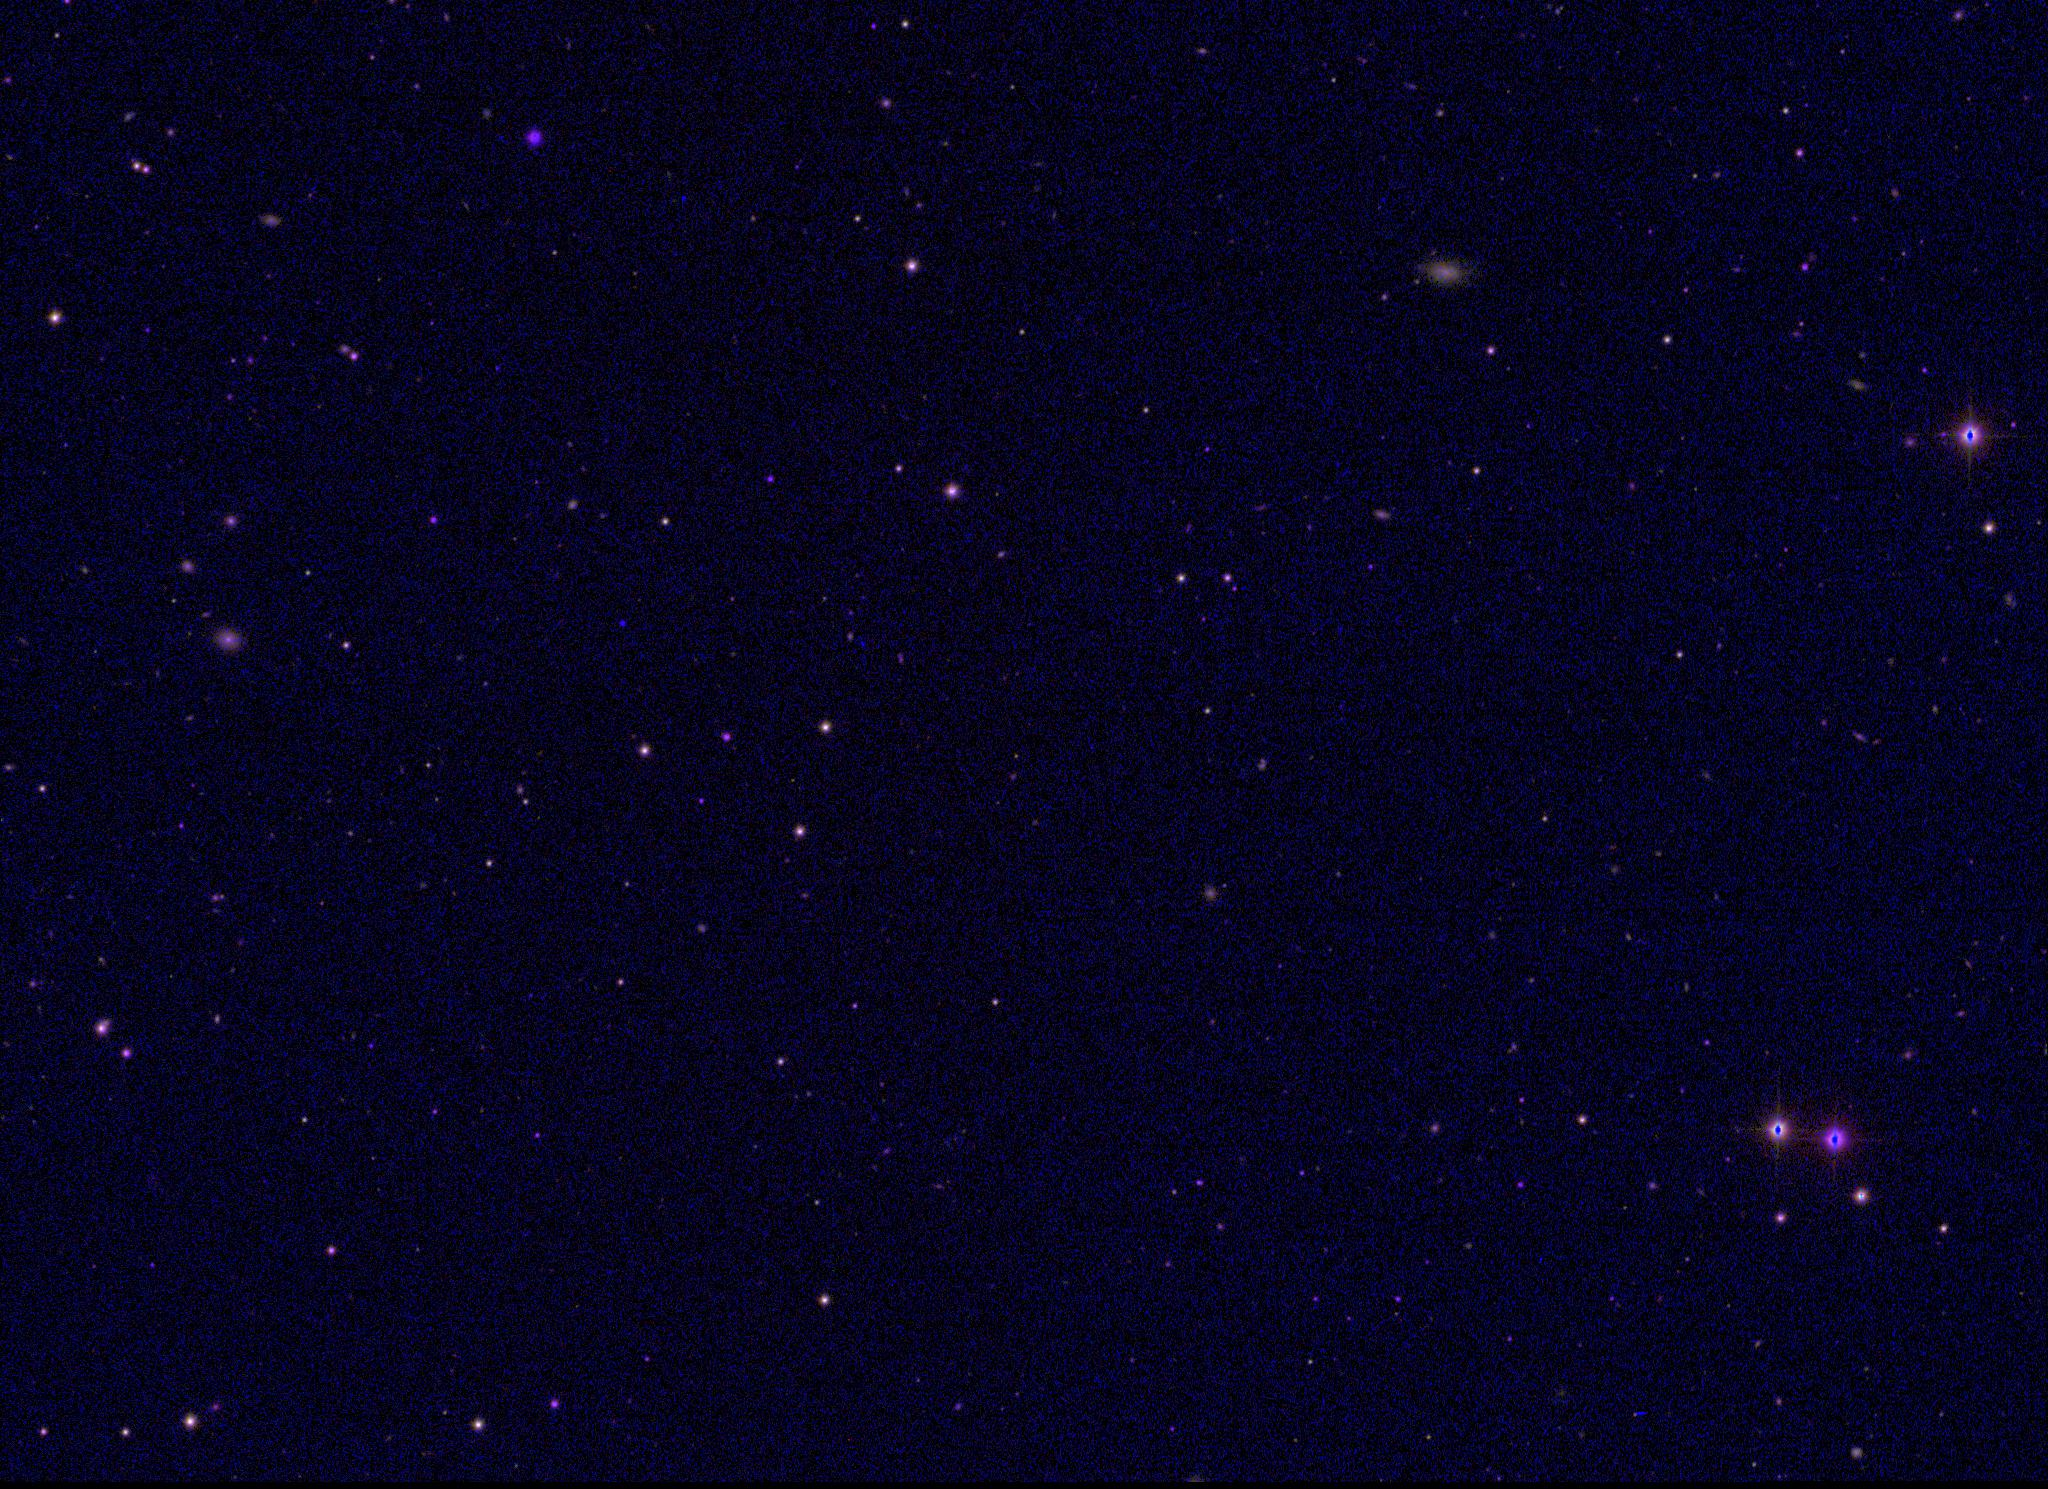L: (614, 616, 628, 628)
